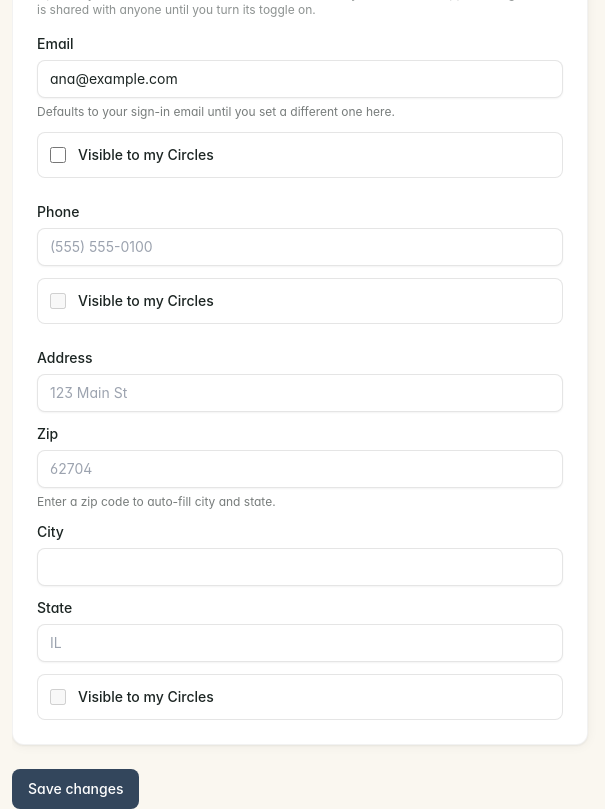
AccountPage › keeps the address visibility toggle disabled until any of street, city, state, or zip is entered
The width and height of the screenshot is (605, 809).
(page scrolled)
expect the 3rd checkbox labelled "Visible to my Circles" is disabled: met, box [50,689,66,705]
Type "Springfield" into the field labelled "City". click: (300, 567)
box: [37,548,563,586]
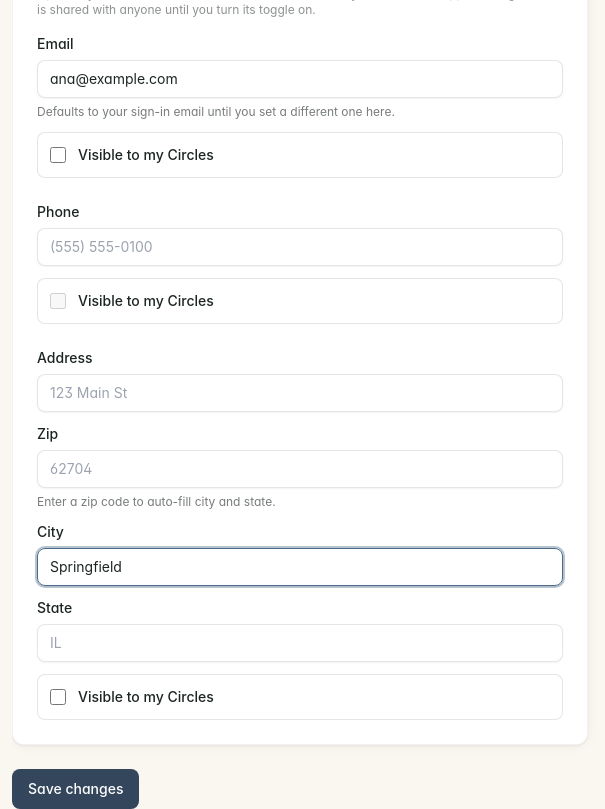
expect the 3rd checkbox labelled "Visible to my Circles" is enabled: met, box [50,689,66,705]
